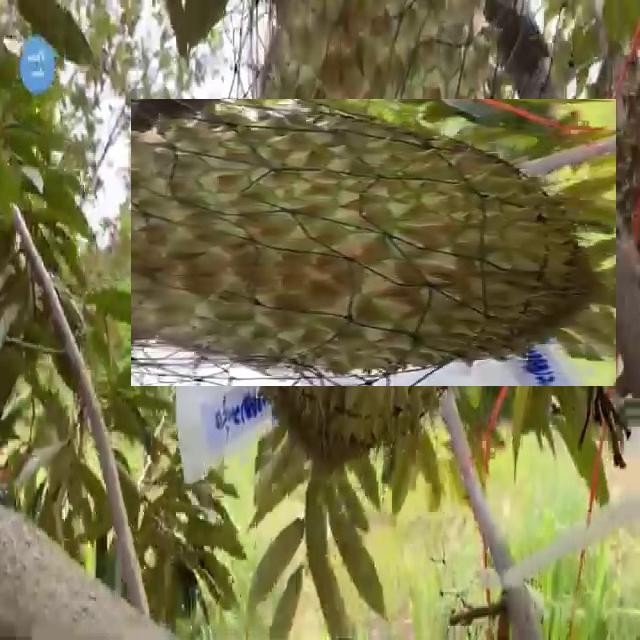durian: (180, 50, 567, 436)
